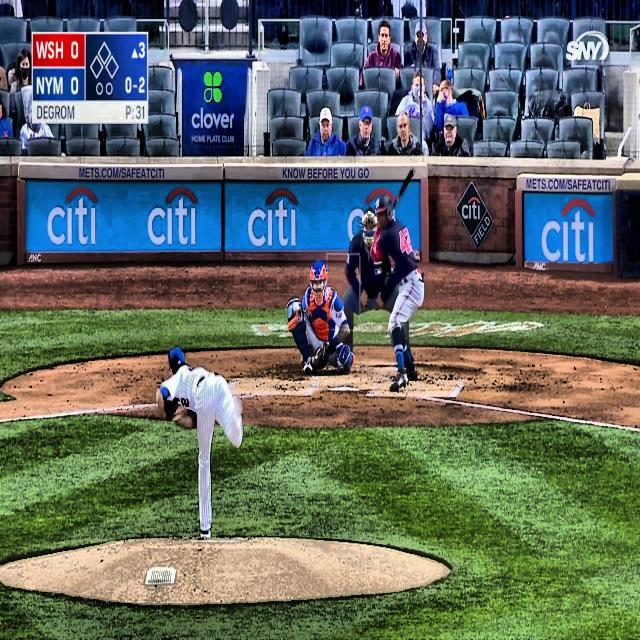baseball: (293, 302, 299, 313)
